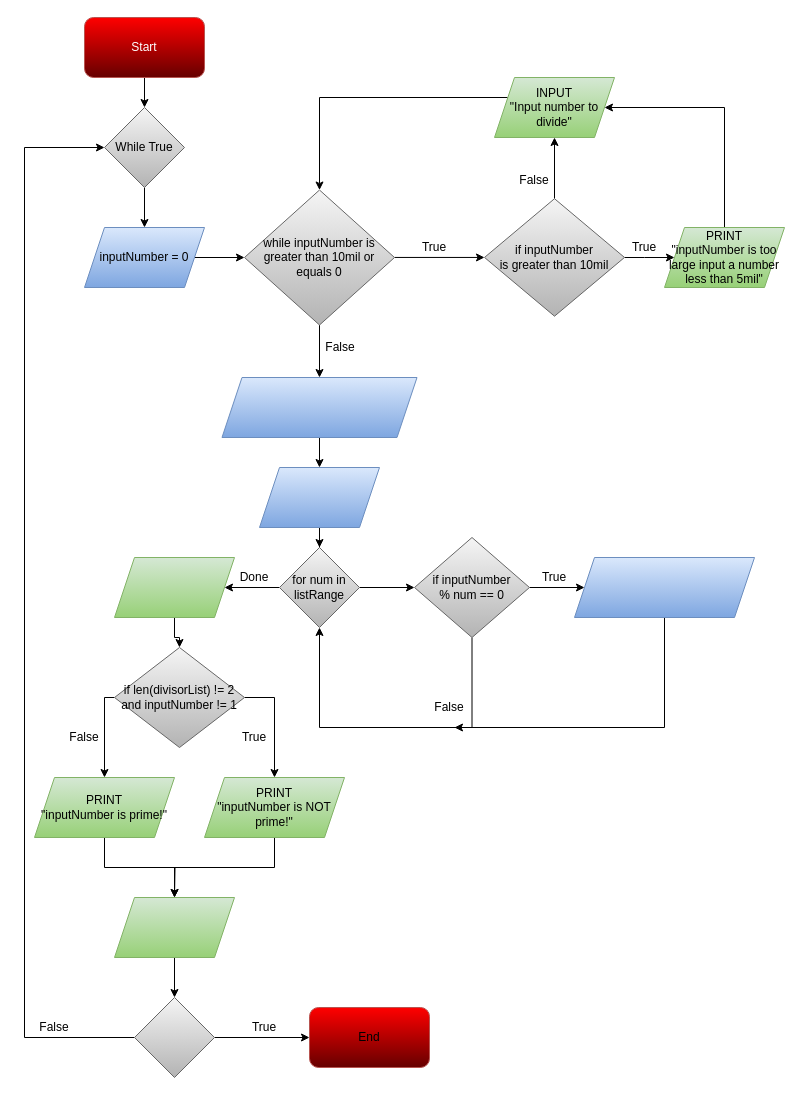
Image size: 802x1095. Some labels were removed from this diagram. The shapes that lost their labels are listed below. From the top down, each one's box as (x1, y1, x2, y2) in pixels, then its label:
(221, 376, 417, 438): listRange = list(range(1,inputNumber+1))
(258, 466, 380, 528): divisorList = []
(114, 556, 234, 618): PRINT divisorList
(574, 556, 754, 618): divisorList.append(num)
(114, 896, 234, 958): INPUT Enter to continue or "q" to quit
(134, 996, 214, 1078): if "q"
